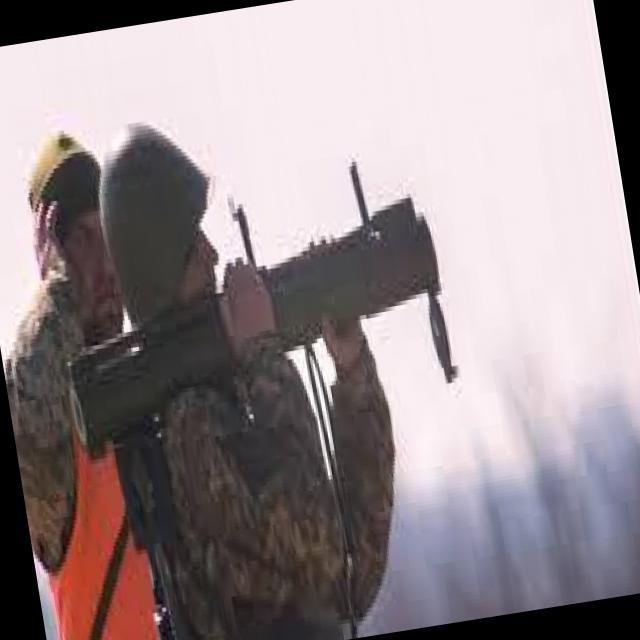rocket: (44, 190, 457, 460)
